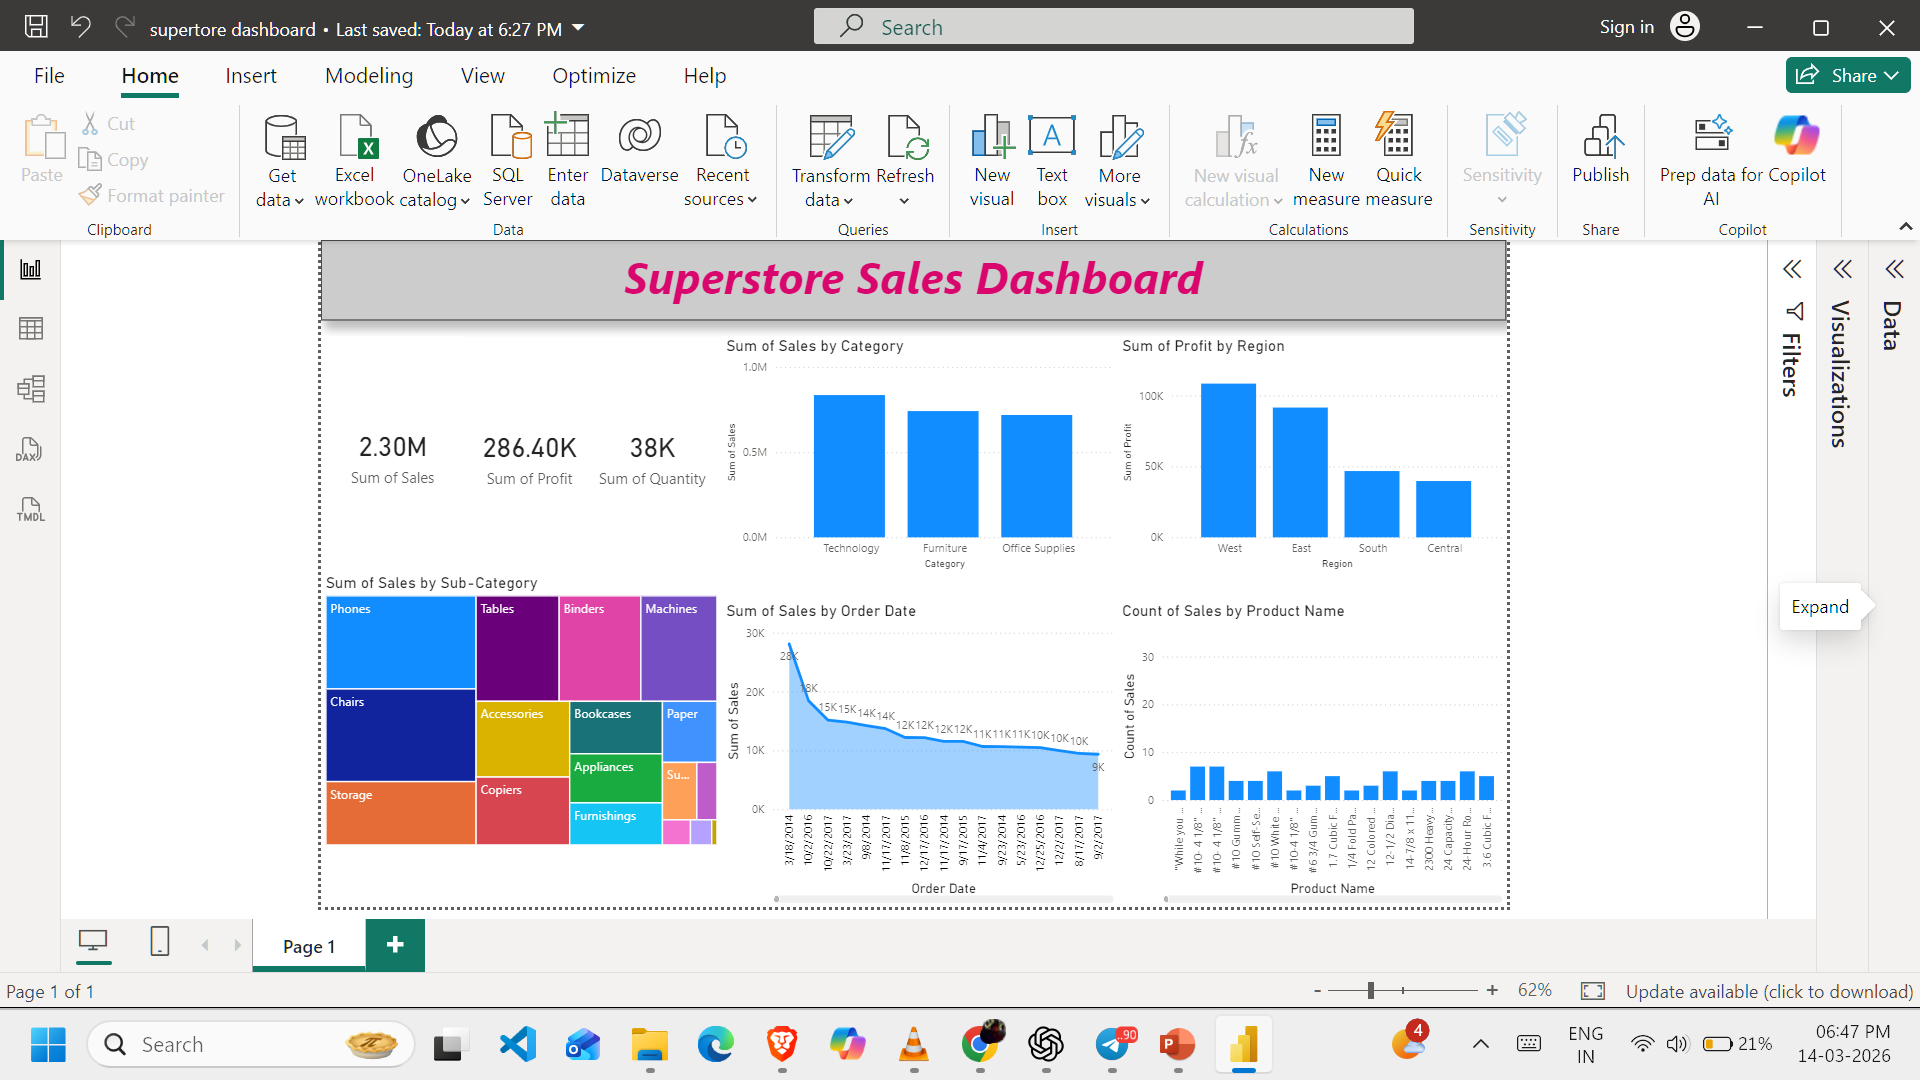

This screenshot's page, from the dashboard's own definition file:
{"tool":"powerbi","page":{"name":"Page 1","canvas":[1280,720],"ordinal":0},"visuals":[{"type":"textbox","box":[0,0,1279.4,86.9],"z":1},{"type":"card","fields":{"Values":["Sum(Sample - Superstore.Profit)"]},"box":[154,106,142,254],"z":2},{"type":"card","fields":{"Values":["Sum(Sample - Superstore.Sales)"]},"box":[0,104,154,256],"z":3},{"type":"card","fields":{"Values":["Sum(Sample - Superstore.Quantity)"]},"box":[284,106,148,254],"z":4},{"type":"columnChart","fields":{"Category":["Sample - Superstore.Category"],"Y":["Sum(Sample - Superstore.Sales)"]},"box":[432,104,428,256],"z":5},{"type":"clusteredColumnChart","fields":{"Category":["Sample - Superstore.Region"],"Y":["Sum(Sample - Superstore.Profit)"]},"box":[860,104,420,256],"z":6},{"type":"treemap","fields":{"Group":["Sample - Superstore.Sub-Category"],"Values":["Sum(Sample - Superstore.Sales)"]},"box":[0,360,432,298],"z":7},{"type":"lineChart","fields":{"Category":["Sample - Superstore.Order Date"],"Y":["Sum(Sample - Superstore.Sales)"]},"box":[432,390,428,330],"z":8},{"type":"columnChart","fields":{"Category":["Sample - Superstore.Product Name"],"Y":["Count(Sample - Superstore.Sales)"]},"box":[860,390,420,330],"z":9}]}

Visuals, with their boxes on the page's 1280x720 design canvas (x1, y1, x2, y2). These are canvas units, not pixel positions in the 1920x1080 screenshot, which may show the page scaled, cropped or inside an application window:
textbox: (left=0, top=0, right=1279, bottom=87)
card - Sum(Sample - Superstore.Profit): (left=154, top=106, right=296, bottom=360)
card - Sum(Sample - Superstore.Sales): (left=0, top=104, right=154, bottom=360)
card - Sum(Sample - Superstore.Quantity): (left=284, top=106, right=432, bottom=360)
columnChart - Sample - Superstore.Category x Sum(Sample - Superstore.Sales): (left=432, top=104, right=860, bottom=360)
clusteredColumnChart - Sample - Superstore.Region x Sum(Sample - Superstore.Profit): (left=860, top=104, right=1280, bottom=360)
treemap - Sample - Superstore.Sub-Category x Sum(Sample - Superstore.Sales): (left=0, top=360, right=432, bottom=658)
lineChart - Sample - Superstore.Order Date x Sum(Sample - Superstore.Sales): (left=432, top=390, right=860, bottom=720)
columnChart - Sample - Superstore.Product Name x Count(Sample - Superstore.Sales): (left=860, top=390, right=1280, bottom=720)
